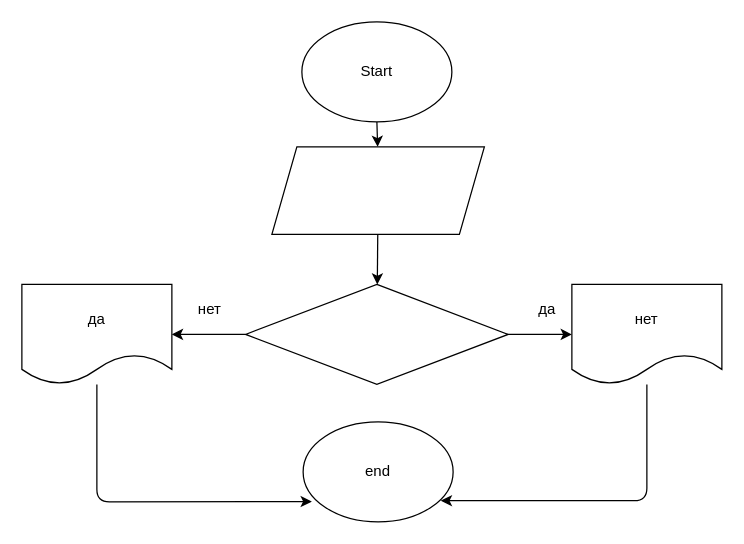
This 744x544 diagram has some shape labels left out. Here are the shapes that lost their labels. From the top down, the centre of each, then its label:
At (377,190): "array = {1, 2, 3, 4, 5, 6, 7} index = 0".
At (376,333): "if index <=4".
